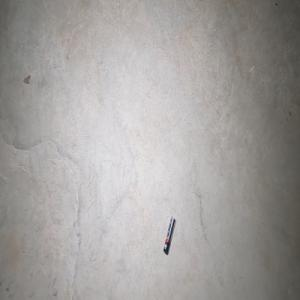Battery: (163, 216, 175, 255)
